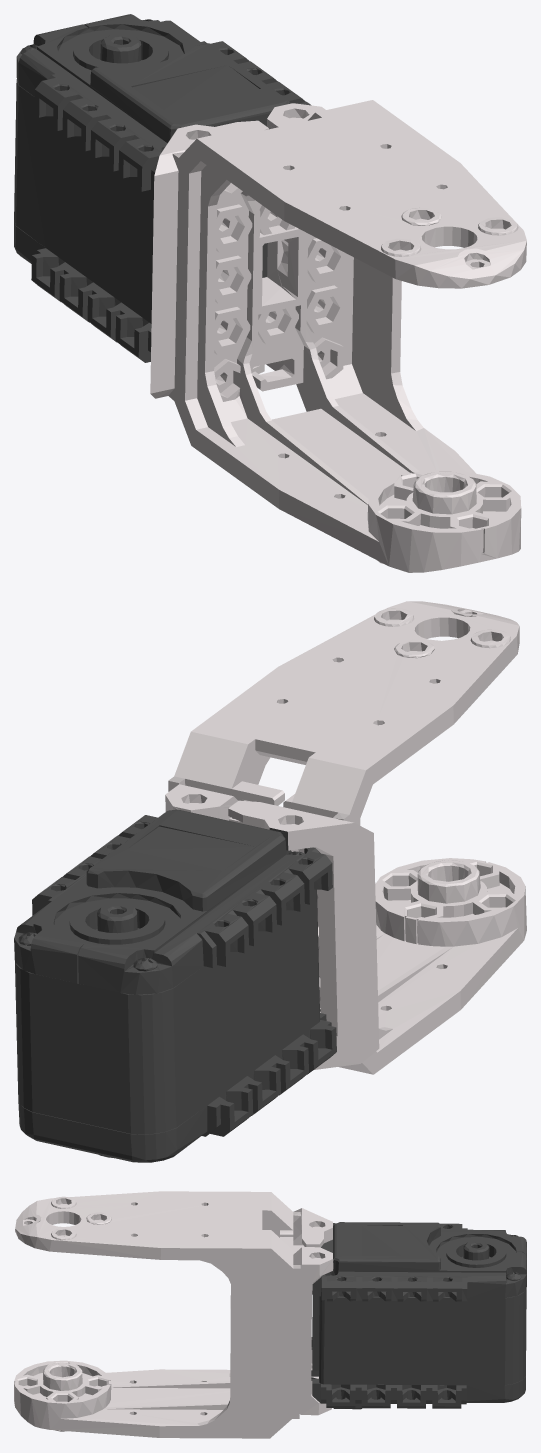
Rendered from arm2_link_1.obj.
3 views of the same model, one above another, from view 1: azimuth 30°, elevation 25°; view 2: azimuth 150°, elevation 25°; view 3: azimuth 270°, elevation 25° (orthographic). The views are drawn at different scales.
Visible parts, largest first — view 1: arm2_link_1; view 2: arm2_link_1; view 3: arm2_link_1.
Part boxes in pixels (left/top/right/bottom): arm2_link_1: left=14, top=14, right=526, bottom=572; arm2_link_1: left=14, top=601, right=526, bottom=1162; arm2_link_1: left=14, top=1191, right=526, bottom=1438.
Bounding box in the file's own units: 35.21 × 49.24 × 116.
Materials: 1 (1 with a texture image).
